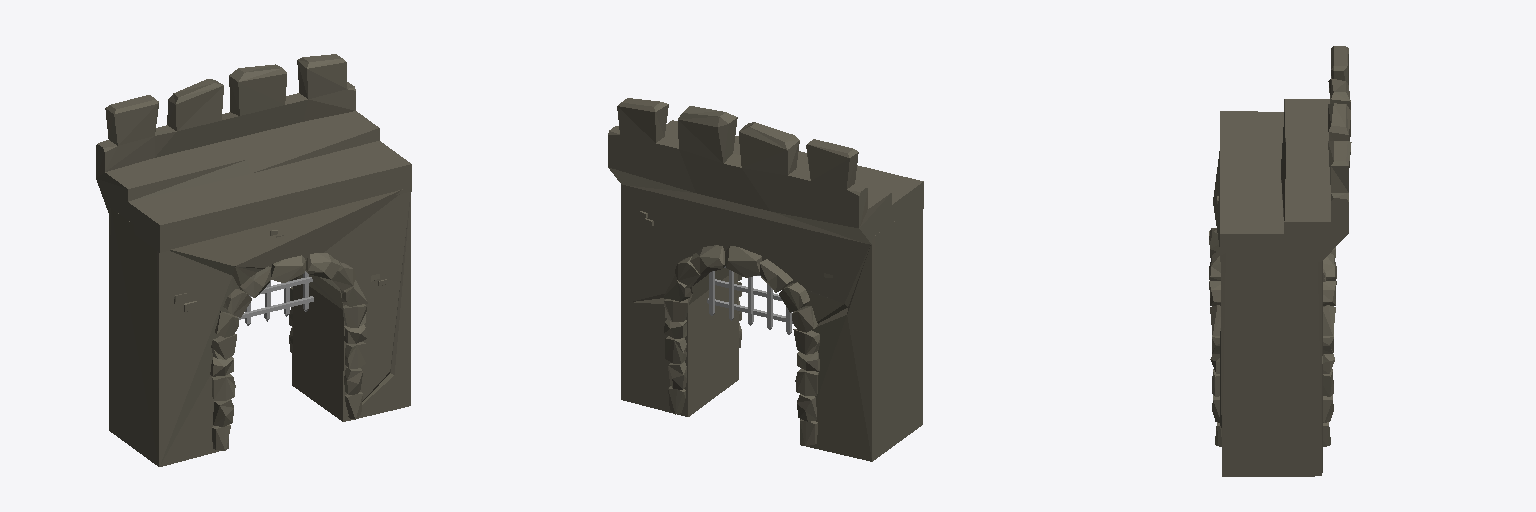
The model's file is castlegate.obj.
3 views of the same model, side by side, from view 1: azimuth 30°, elevation 25°; view 2: azimuth 150°, elevation 25°; view 3: azimuth 270°, elevation 25° (orthographic).
Parts seen in each view (by area): view 1: Castle-gate.003_Untitled.153, castle-wall-top-half.008_Untitled.152, Castle-lattice-small.001_Untitled.154; view 2: Castle-gate.003_Untitled.153, castle-wall-top-half.008_Untitled.152, Castle-lattice-small.001_Untitled.154; view 3: Castle-gate.003_Untitled.153, castle-wall-top-half.008_Untitled.152.
Boxes of the visible parts, box(x1,y1,x2,y2) form: Castle-gate.003_Untitled.153: box(109, 189, 410, 466); castle-wall-top-half.008_Untitled.152: box(96, 54, 411, 252); Castle-lattice-small.001_Untitled.154: box(238, 271, 313, 325); Castle-gate.003_Untitled.153: box(621, 184, 922, 461); castle-wall-top-half.008_Untitled.152: box(608, 98, 923, 244); Castle-lattice-small.001_Untitled.154: box(707, 266, 792, 334); Castle-gate.003_Untitled.153: box(1209, 151, 1336, 476); castle-wall-top-half.008_Untitled.152: box(1220, 46, 1351, 261).
Size of the model in its own units: 1.84 by 2.23 by 0.9051.